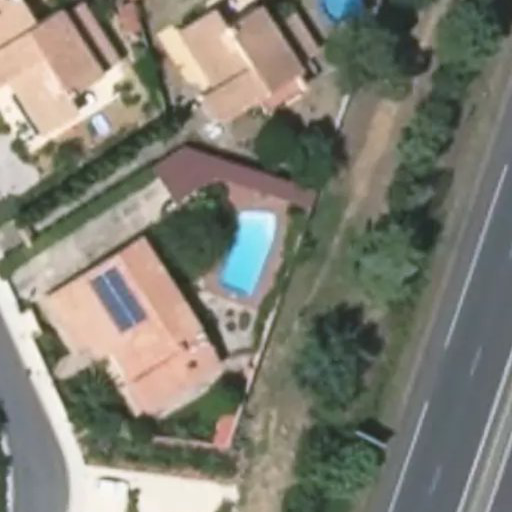pool: (208, 212, 277, 295)
